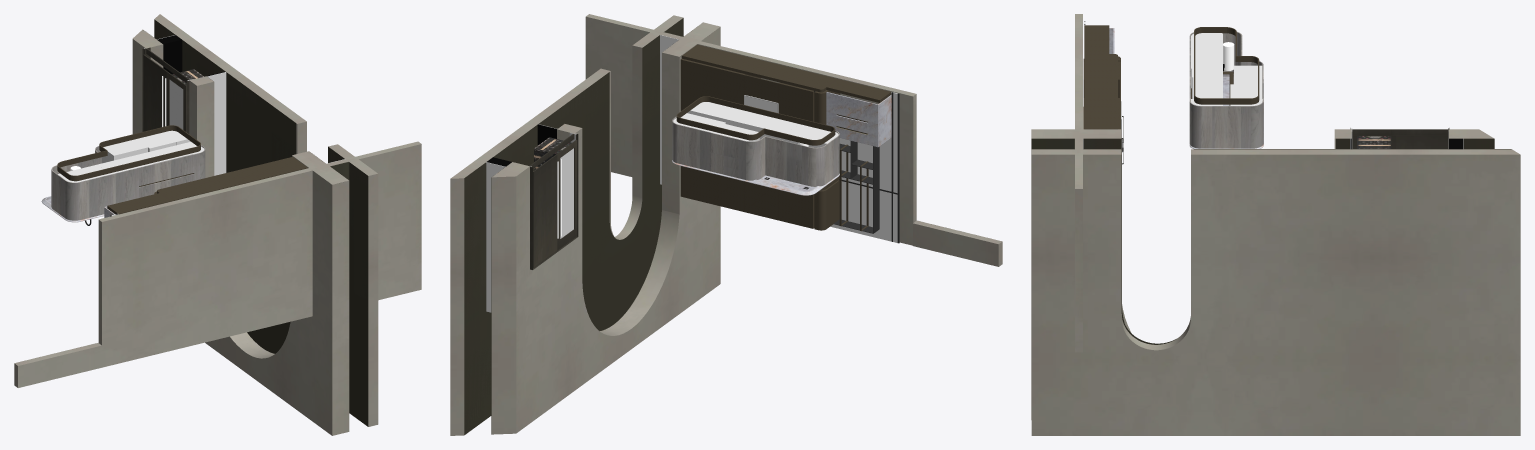
Rendered from Culimaat Duim.glb.
The picture shows the model from 3 angles, left to right: view 1: azimuth 30°, elevation 25°; view 2: azimuth 150°, elevation 25°; view 3: azimuth 270°, elevation 25°; orthographic projection. The views are drawn at different scales.
Parts seen in each view (by area): view 1: Polygon_62, Uitsnijding_volumes_13, Uitsnijding_volumes_12, Polygon_63, Afronding_5, Extrusie_97, Extrusie_109, Uitsnijding_volumes_8, Extrusie_61, Extrusie_65, Extrusie_77, Extrusie_64 (+9 smaller); view 2: Polygon_62, Uitsnijding_volumes_13, Uitsnijding_volumes_12, Samenvoeging_volumes_10, Afronding_5, Extrusie_97, Polygon_63, Extrusie_14, Extrusie_15, Extrusie_43, Extrusie_42, Extrusie_25 (+21 smaller); view 3: Uitsnijding_volumes_12, Afronding_5, Polygon_63, Polygon_62, Uitsnijding_volumes_14, Extrusie_59, Uitsnijding_volumes_7, Uitsnijding_volumes_6, Extrusie_4, Extrusie_97, Extrusie_96, Uitsnijding_volumes_13 (+5 smaller).
Boxes of the visible parts, left/top/right/bottom form: Polygon_62: left=14, top=29, right=421, bottom=435; Uitsnijding_volumes_13: left=154, top=19, right=368, bottom=426; Uitsnijding_volumes_12: left=154, top=14, right=378, bottom=426; Polygon_63: left=14, top=141, right=421, bottom=365; Afronding_5: left=157, top=157, right=307, bottom=201; Extrusie_97: left=143, top=54, right=166, bottom=131; Extrusie_109: left=207, top=72, right=226, bottom=175; Uitsnijding_volumes_8: left=60, top=177, right=85, bottom=220; Extrusie_61: left=86, top=174, right=112, bottom=218; Extrusie_65: left=112, top=168, right=138, bottom=204; Extrusie_77: left=154, top=154, right=194, bottom=182; Extrusie_64: left=79, top=146, right=196, bottom=180; Polygon_62: left=491, top=16, right=1002, bottom=434; Uitsnijding_volumes_13: left=464, top=18, right=683, bottom=434; Uitsnijding_volumes_12: left=450, top=15, right=682, bottom=435; Samenvoeging_volumes_10: left=746, top=136, right=833, bottom=186; Afronding_5: left=681, top=44, right=837, bottom=92; Extrusie_97: left=533, top=154, right=557, bottom=267; Polygon_63: left=586, top=14, right=1002, bottom=244; Extrusie_14: left=837, top=181, right=891, bottom=241; Extrusie_15: left=839, top=138, right=891, bottom=191; Extrusie_43: left=778, top=190, right=814, bottom=228; Extrusie_42: left=778, top=82, right=814, bottom=121; Extrusie_25: left=710, top=66, right=761, bottom=104; Uitsnijding_volumes_12: left=1031, top=149, right=1520, bottom=435; Afronding_5: left=1084, top=54, right=1117, bottom=129; Polygon_63: left=1031, top=14, right=1121, bottom=188; Polygon_62: left=1031, top=129, right=1493, bottom=419; Uitsnijding_volumes_14: left=1031, top=138, right=1494, bottom=322; Extrusie_59: left=1212, top=106, right=1240, bottom=148; Uitsnijding_volumes_7: left=1189, top=98, right=1212, bottom=148; Uitsnijding_volumes_6: left=1241, top=98, right=1263, bottom=148; Extrusie_4: left=1084, top=25, right=1109, bottom=53; Extrusie_97: left=1396, top=135, right=1447, bottom=148; Extrusie_96: left=1352, top=129, right=1447, bottom=135; Uitsnijding_volumes_13: left=1032, top=149, right=1511, bottom=344.
Size of what is drawn, in the model's own units: 9.14 by 5.44 by 8.56.
Materials: 25 (11 with a texture image).
